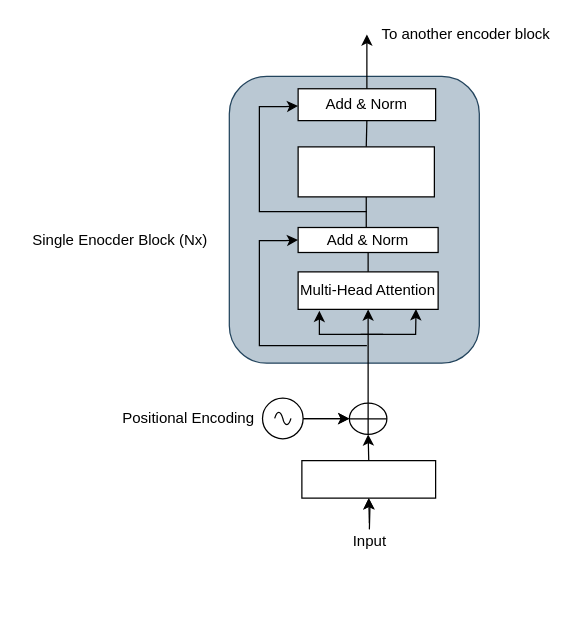
Image size: 580x630. Some labels were removed from this diagram. The centre of each missing label's shape, as x and y in pixels:
Feed Forward Network: the point at 365,171
Input Embeddings: the point at 368,478
